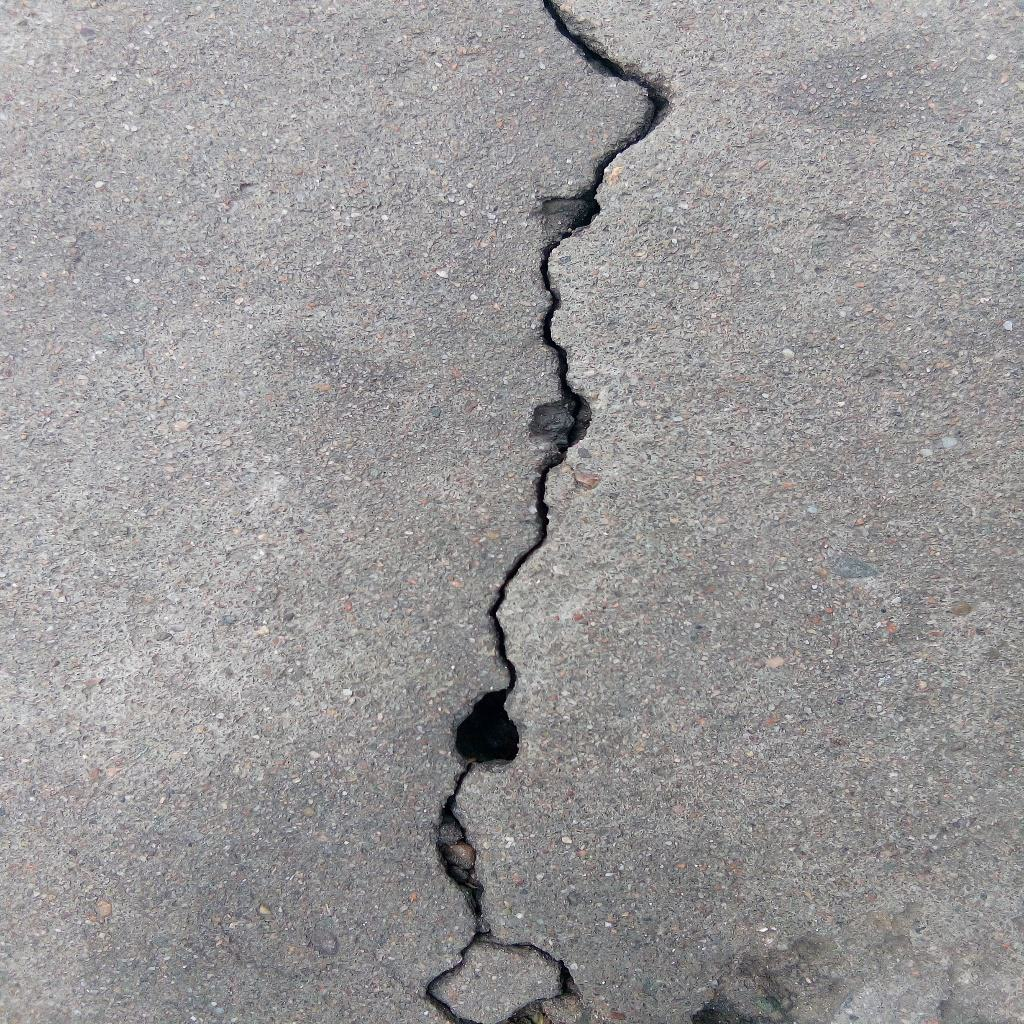Crack: (422, 1, 670, 1024)
Spalling: (689, 903, 1024, 1024)
